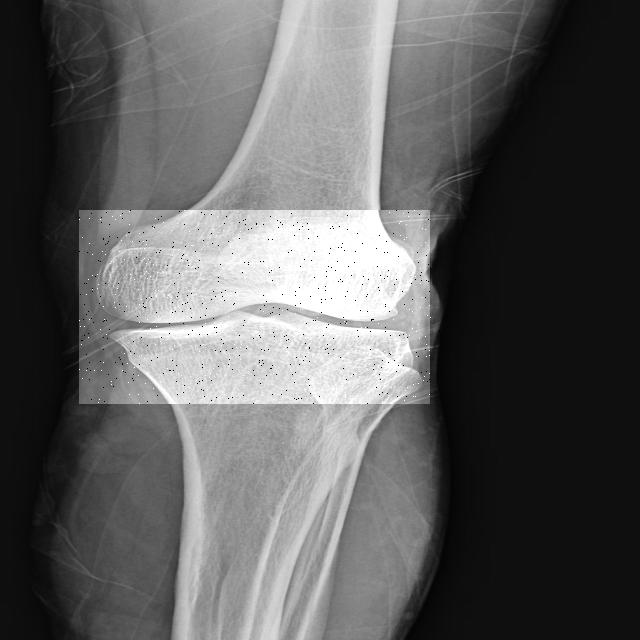osteo: (80, 210, 432, 404)
